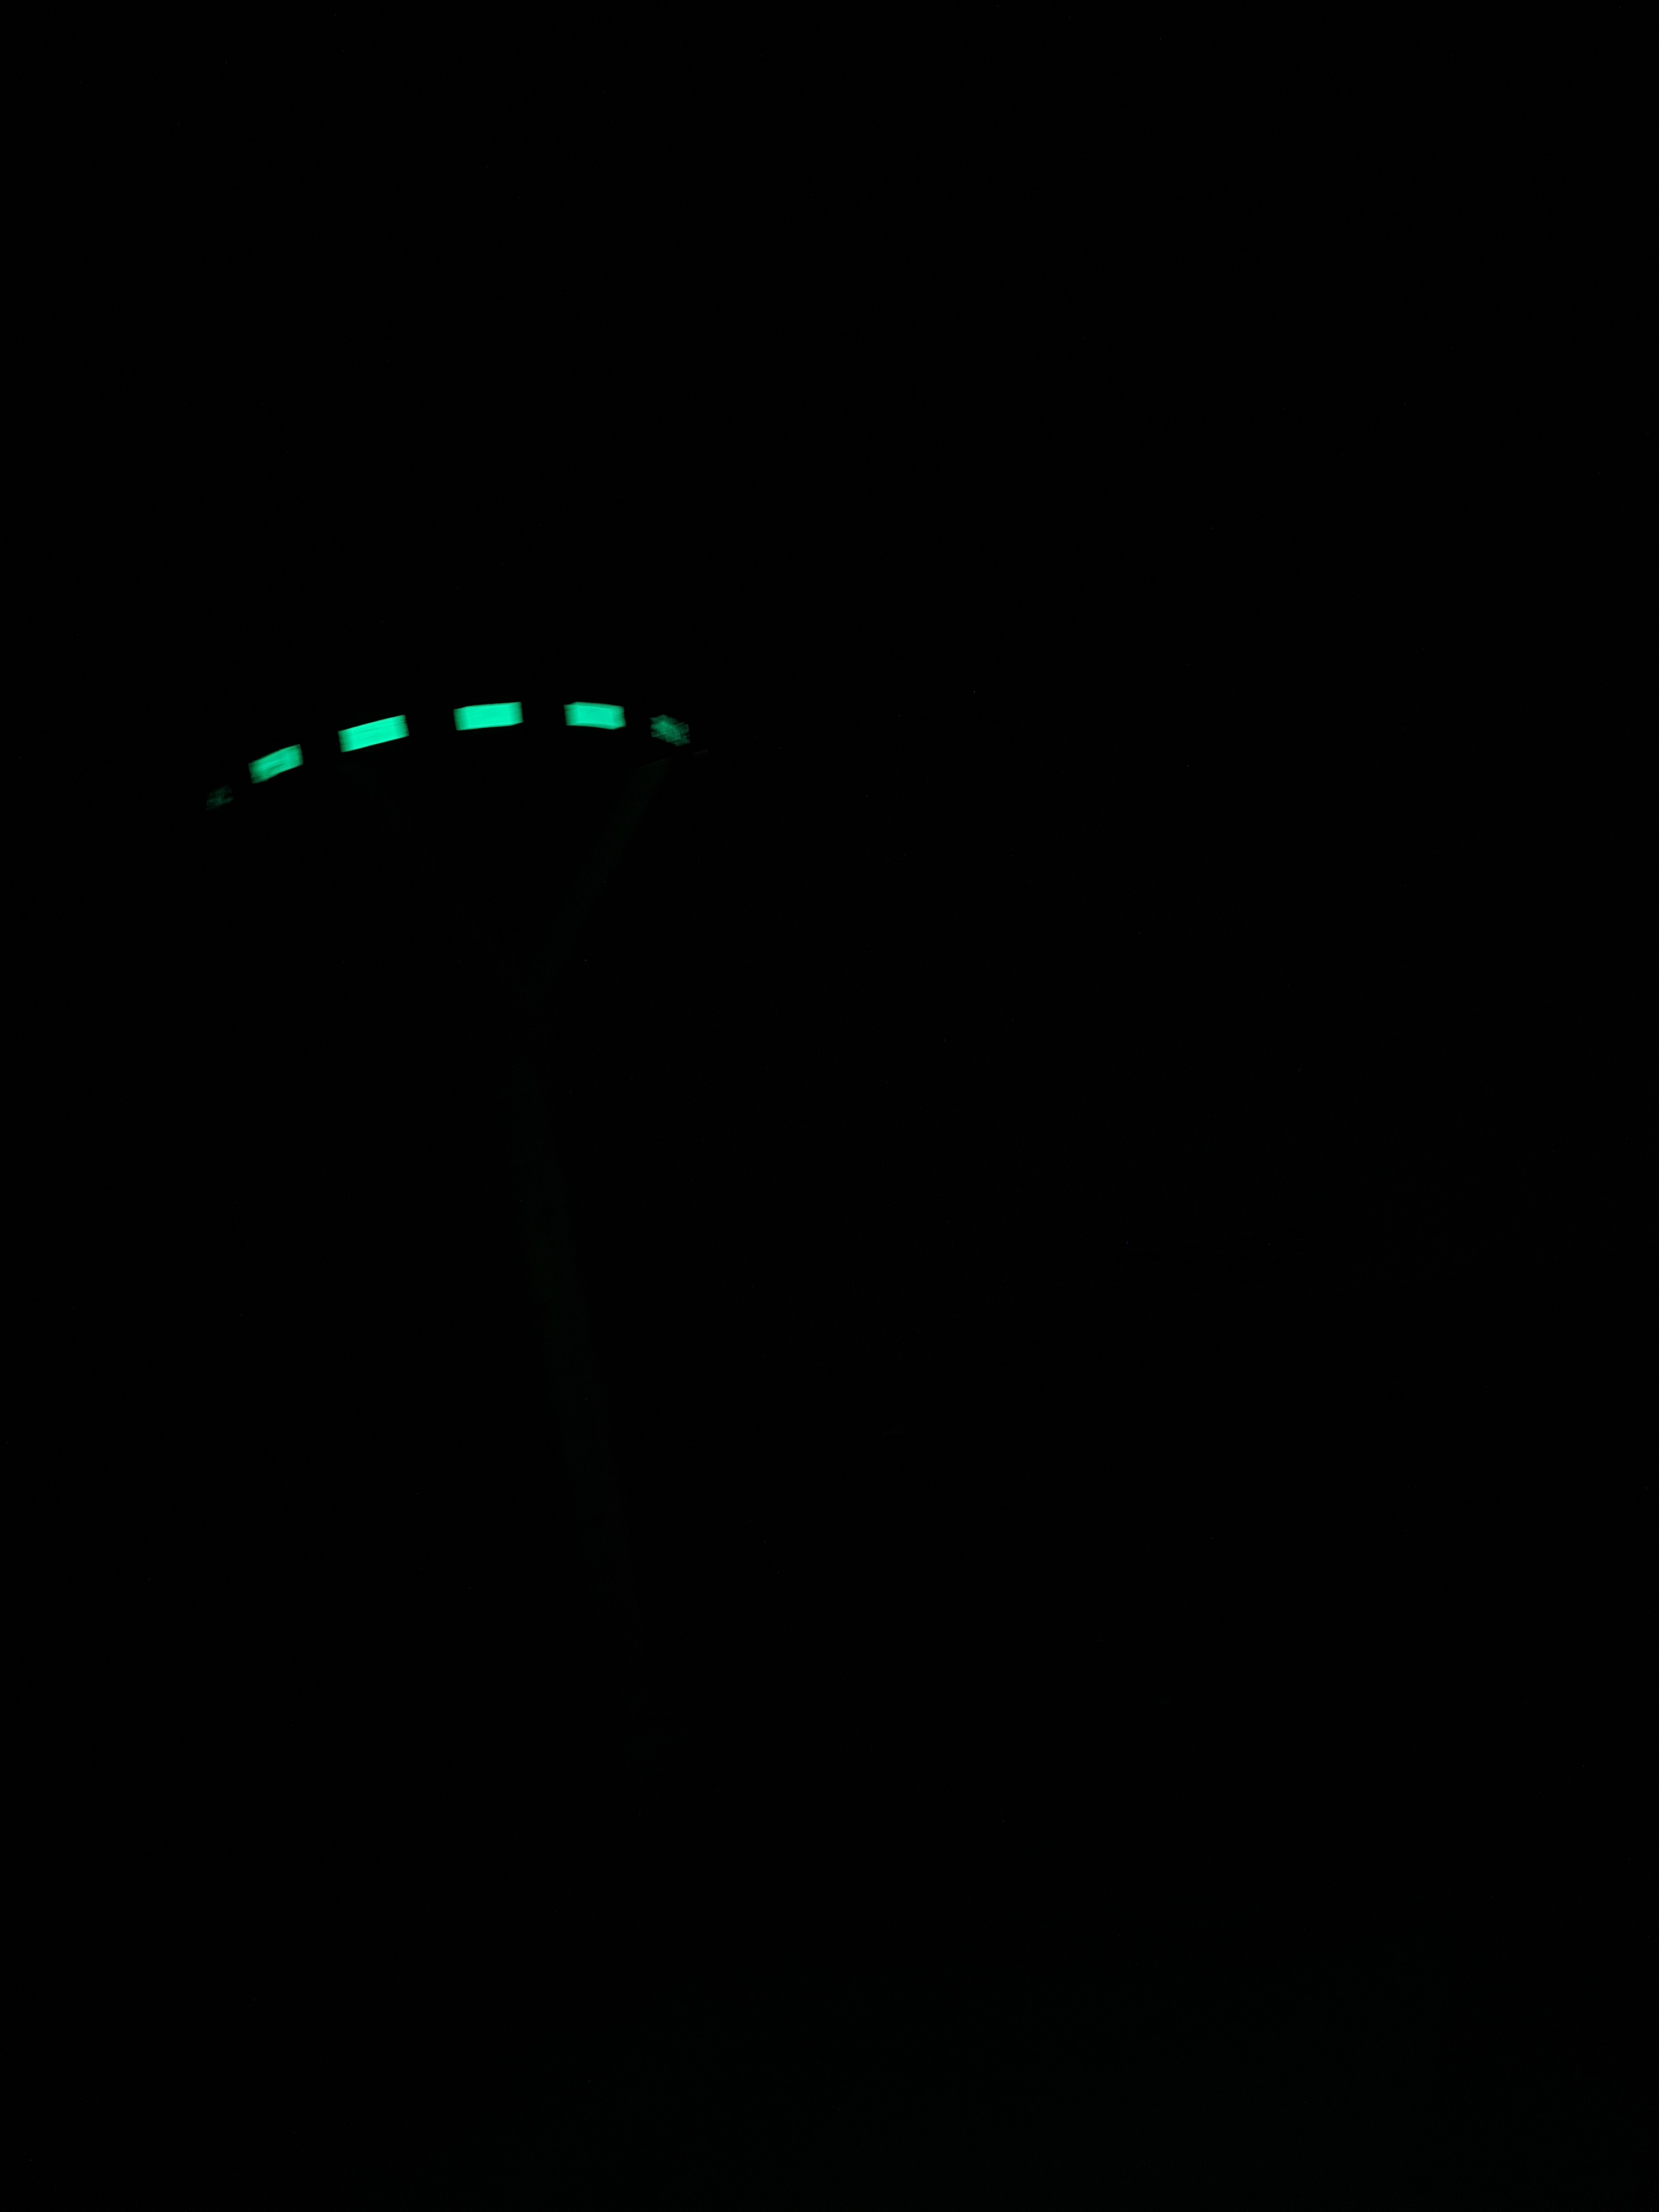hoop: (246, 700, 697, 787)
